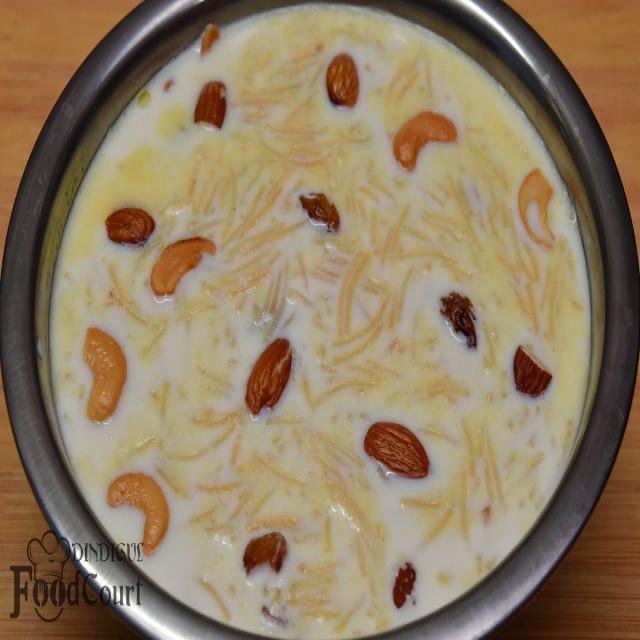shavige payasa: (40, 0, 621, 640)
